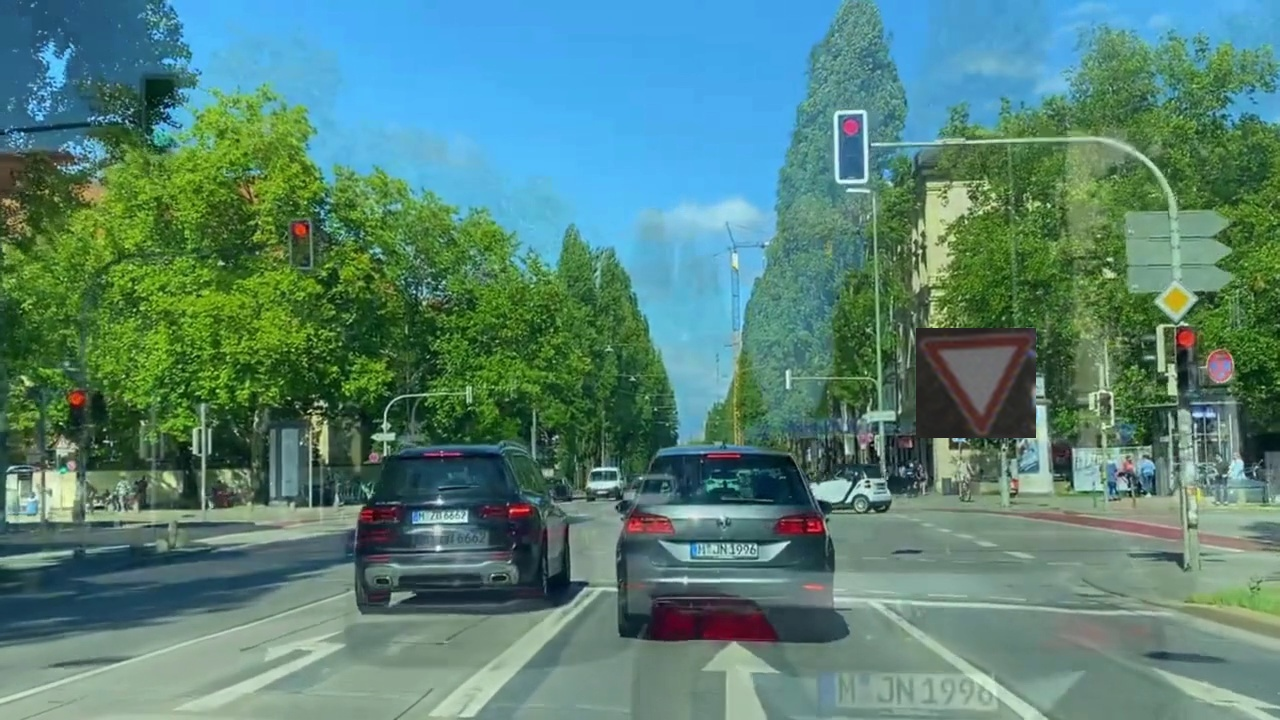Yield: (916, 328, 1036, 438)
